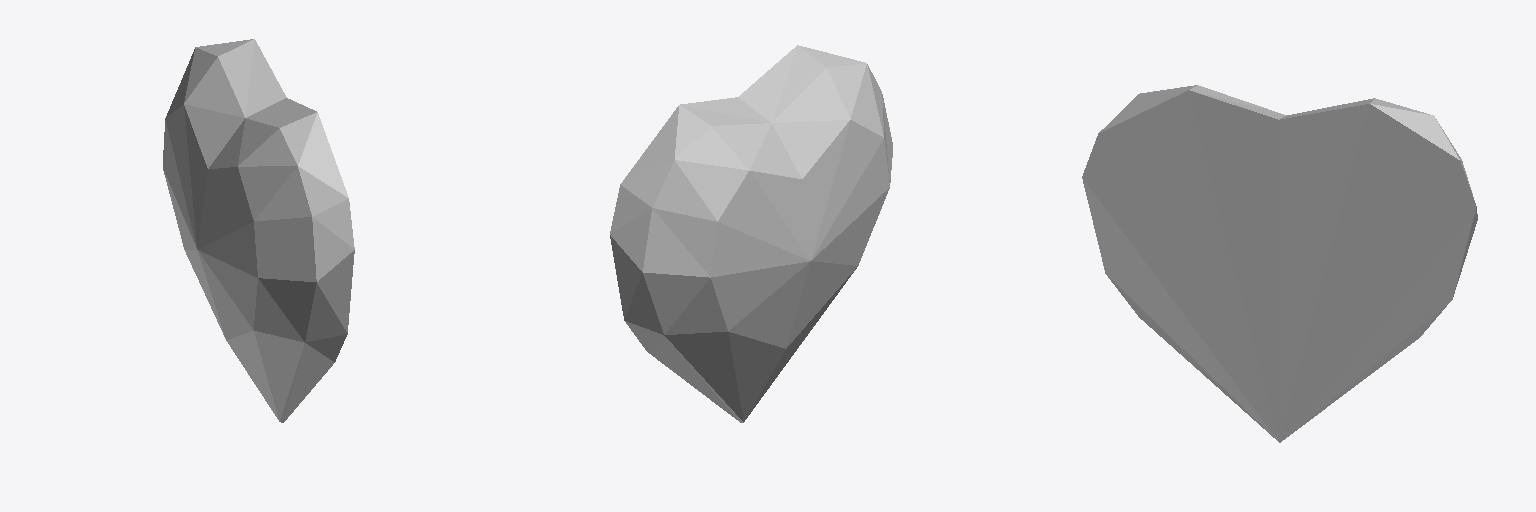
Rendered from sup.obj.
The picture shows the model from 3 angles: view 1: azimuth 30°, elevation 25°; view 2: azimuth 150°, elevation 25°; view 3: azimuth 270°, elevation 25°; orthographic projection.
Parts seen in each view (by area): view 1: Cloner.1; view 2: Cloner.1; view 3: Cloner.1.
Part boxes in pixels (x1,y1,x2,y2): Cloner.1: (163, 39, 354, 422); Cloner.1: (610, 45, 892, 422); Cloner.1: (1082, 85, 1477, 442).
Size of the model in its own units: 30.06 by 83.06 by 85.87.